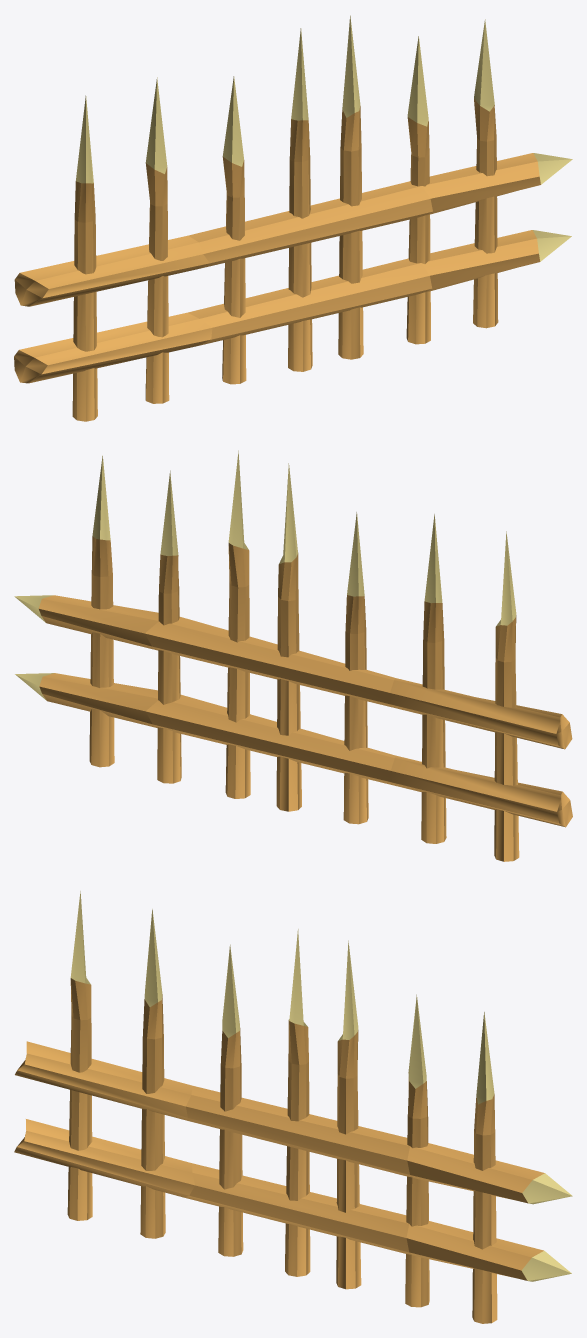
Rendered from Wood_stick1_1.fbx.
The picture shows the model from 3 angles, top to bottom: view 1: azimuth 30°, elevation 25°; view 2: azimuth 150°, elevation 25°; view 3: azimuth 330°, elevation 25°; orthographic projection.
Visible parts, largest first — view 1: Wood_stick1_1; view 2: Wood_stick1_1; view 3: Wood_stick1_1.
Part boxes in pixels (left/top/right/bottom): Wood_stick1_1: left=14, top=15, right=572, bottom=421; Wood_stick1_1: left=14, top=450, right=572, bottom=861; Wood_stick1_1: left=14, top=891, right=572, bottom=1323.
Bounding box in the file's own units: 235 × 139 × 16.07.
